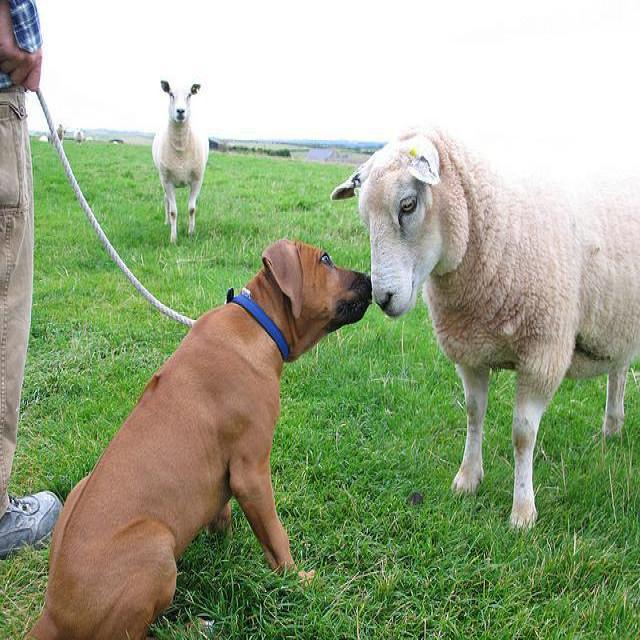Sheep: (335, 129, 634, 532), (152, 80, 210, 243)
